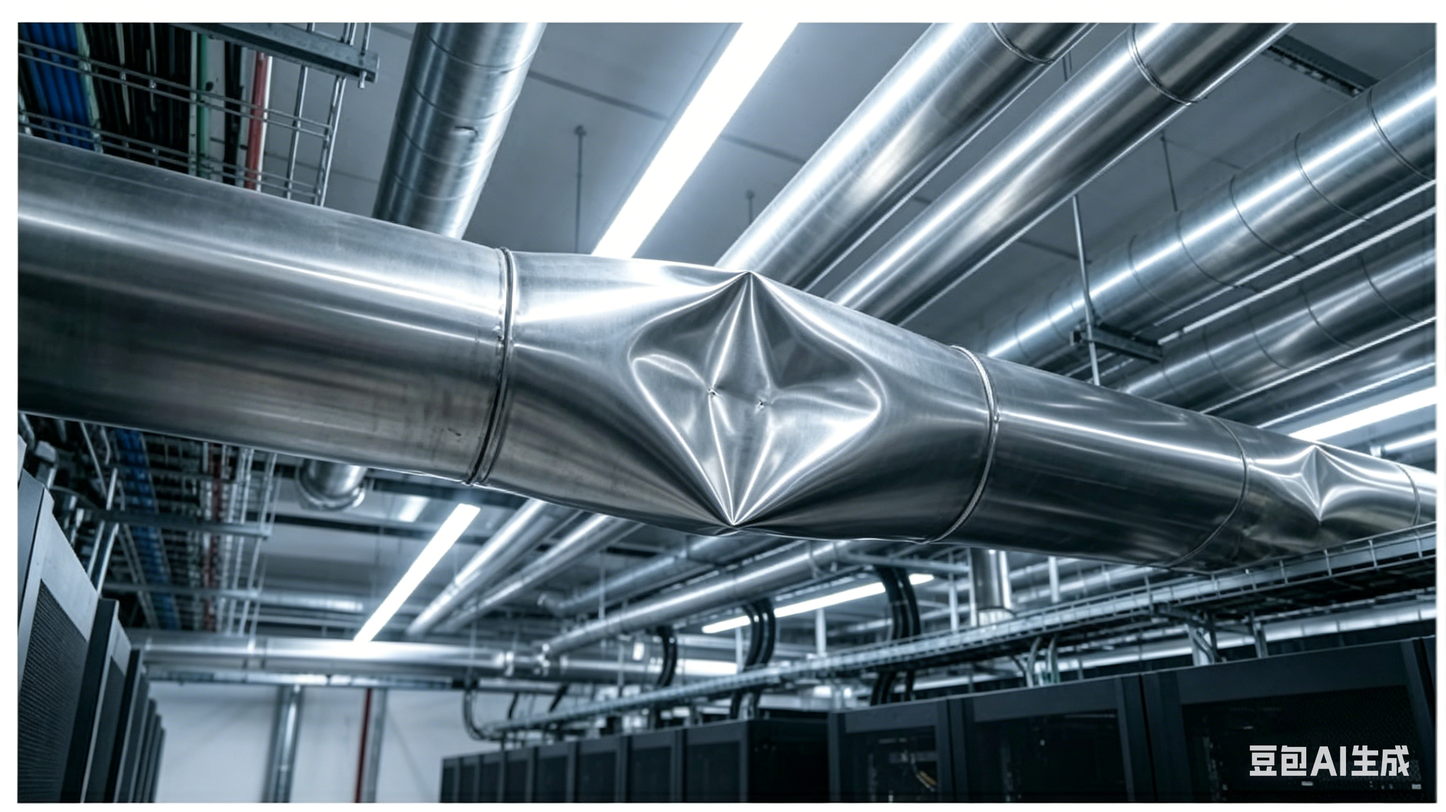Leakage: (610, 266, 888, 534), (1241, 435, 1394, 548)
